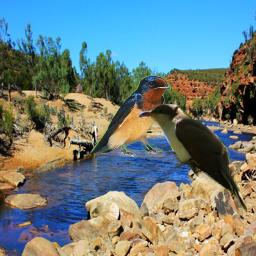Cuckoo: (136, 104, 247, 215)
Swallow: (89, 75, 171, 157)
